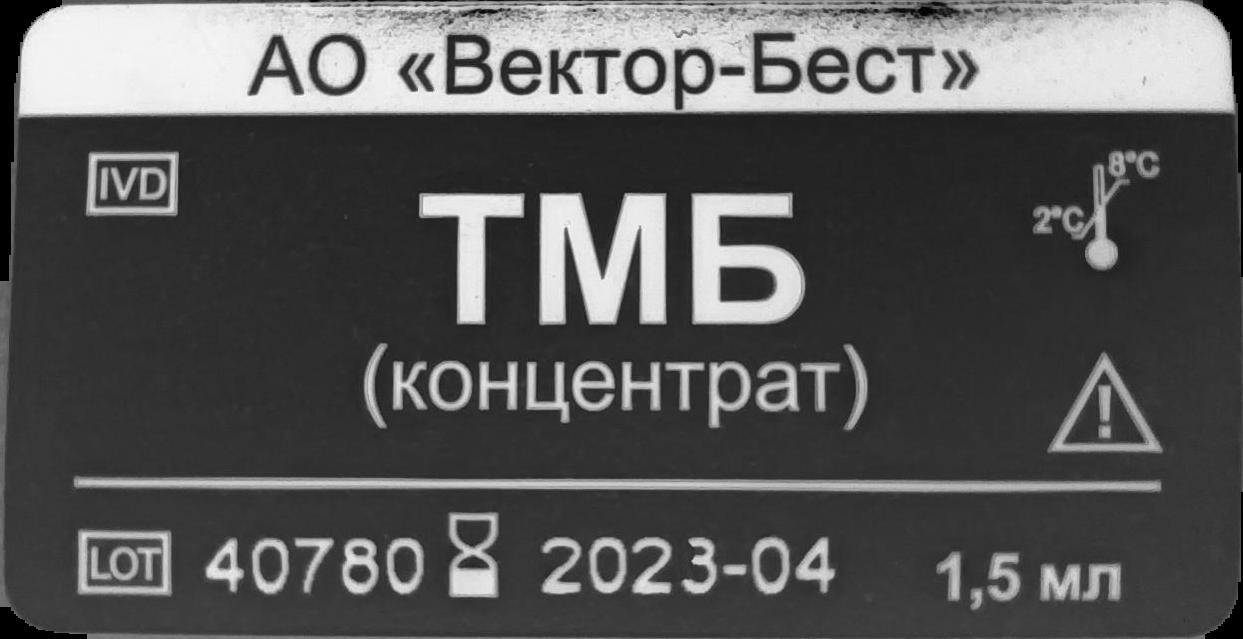something: (1021, 146, 1169, 278), (1044, 350, 1165, 457), (80, 148, 183, 222), (75, 525, 175, 597), (445, 510, 503, 603)
text: (360, 186, 871, 440), (244, 23, 983, 112), (539, 530, 842, 606), (198, 530, 434, 604), (930, 550, 1127, 610)
